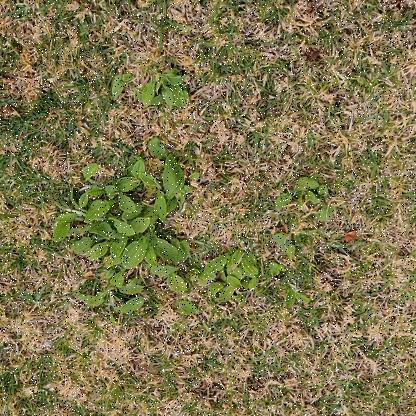Weeds: (53, 137, 311, 327), (271, 174, 335, 260), (112, 64, 189, 110)
